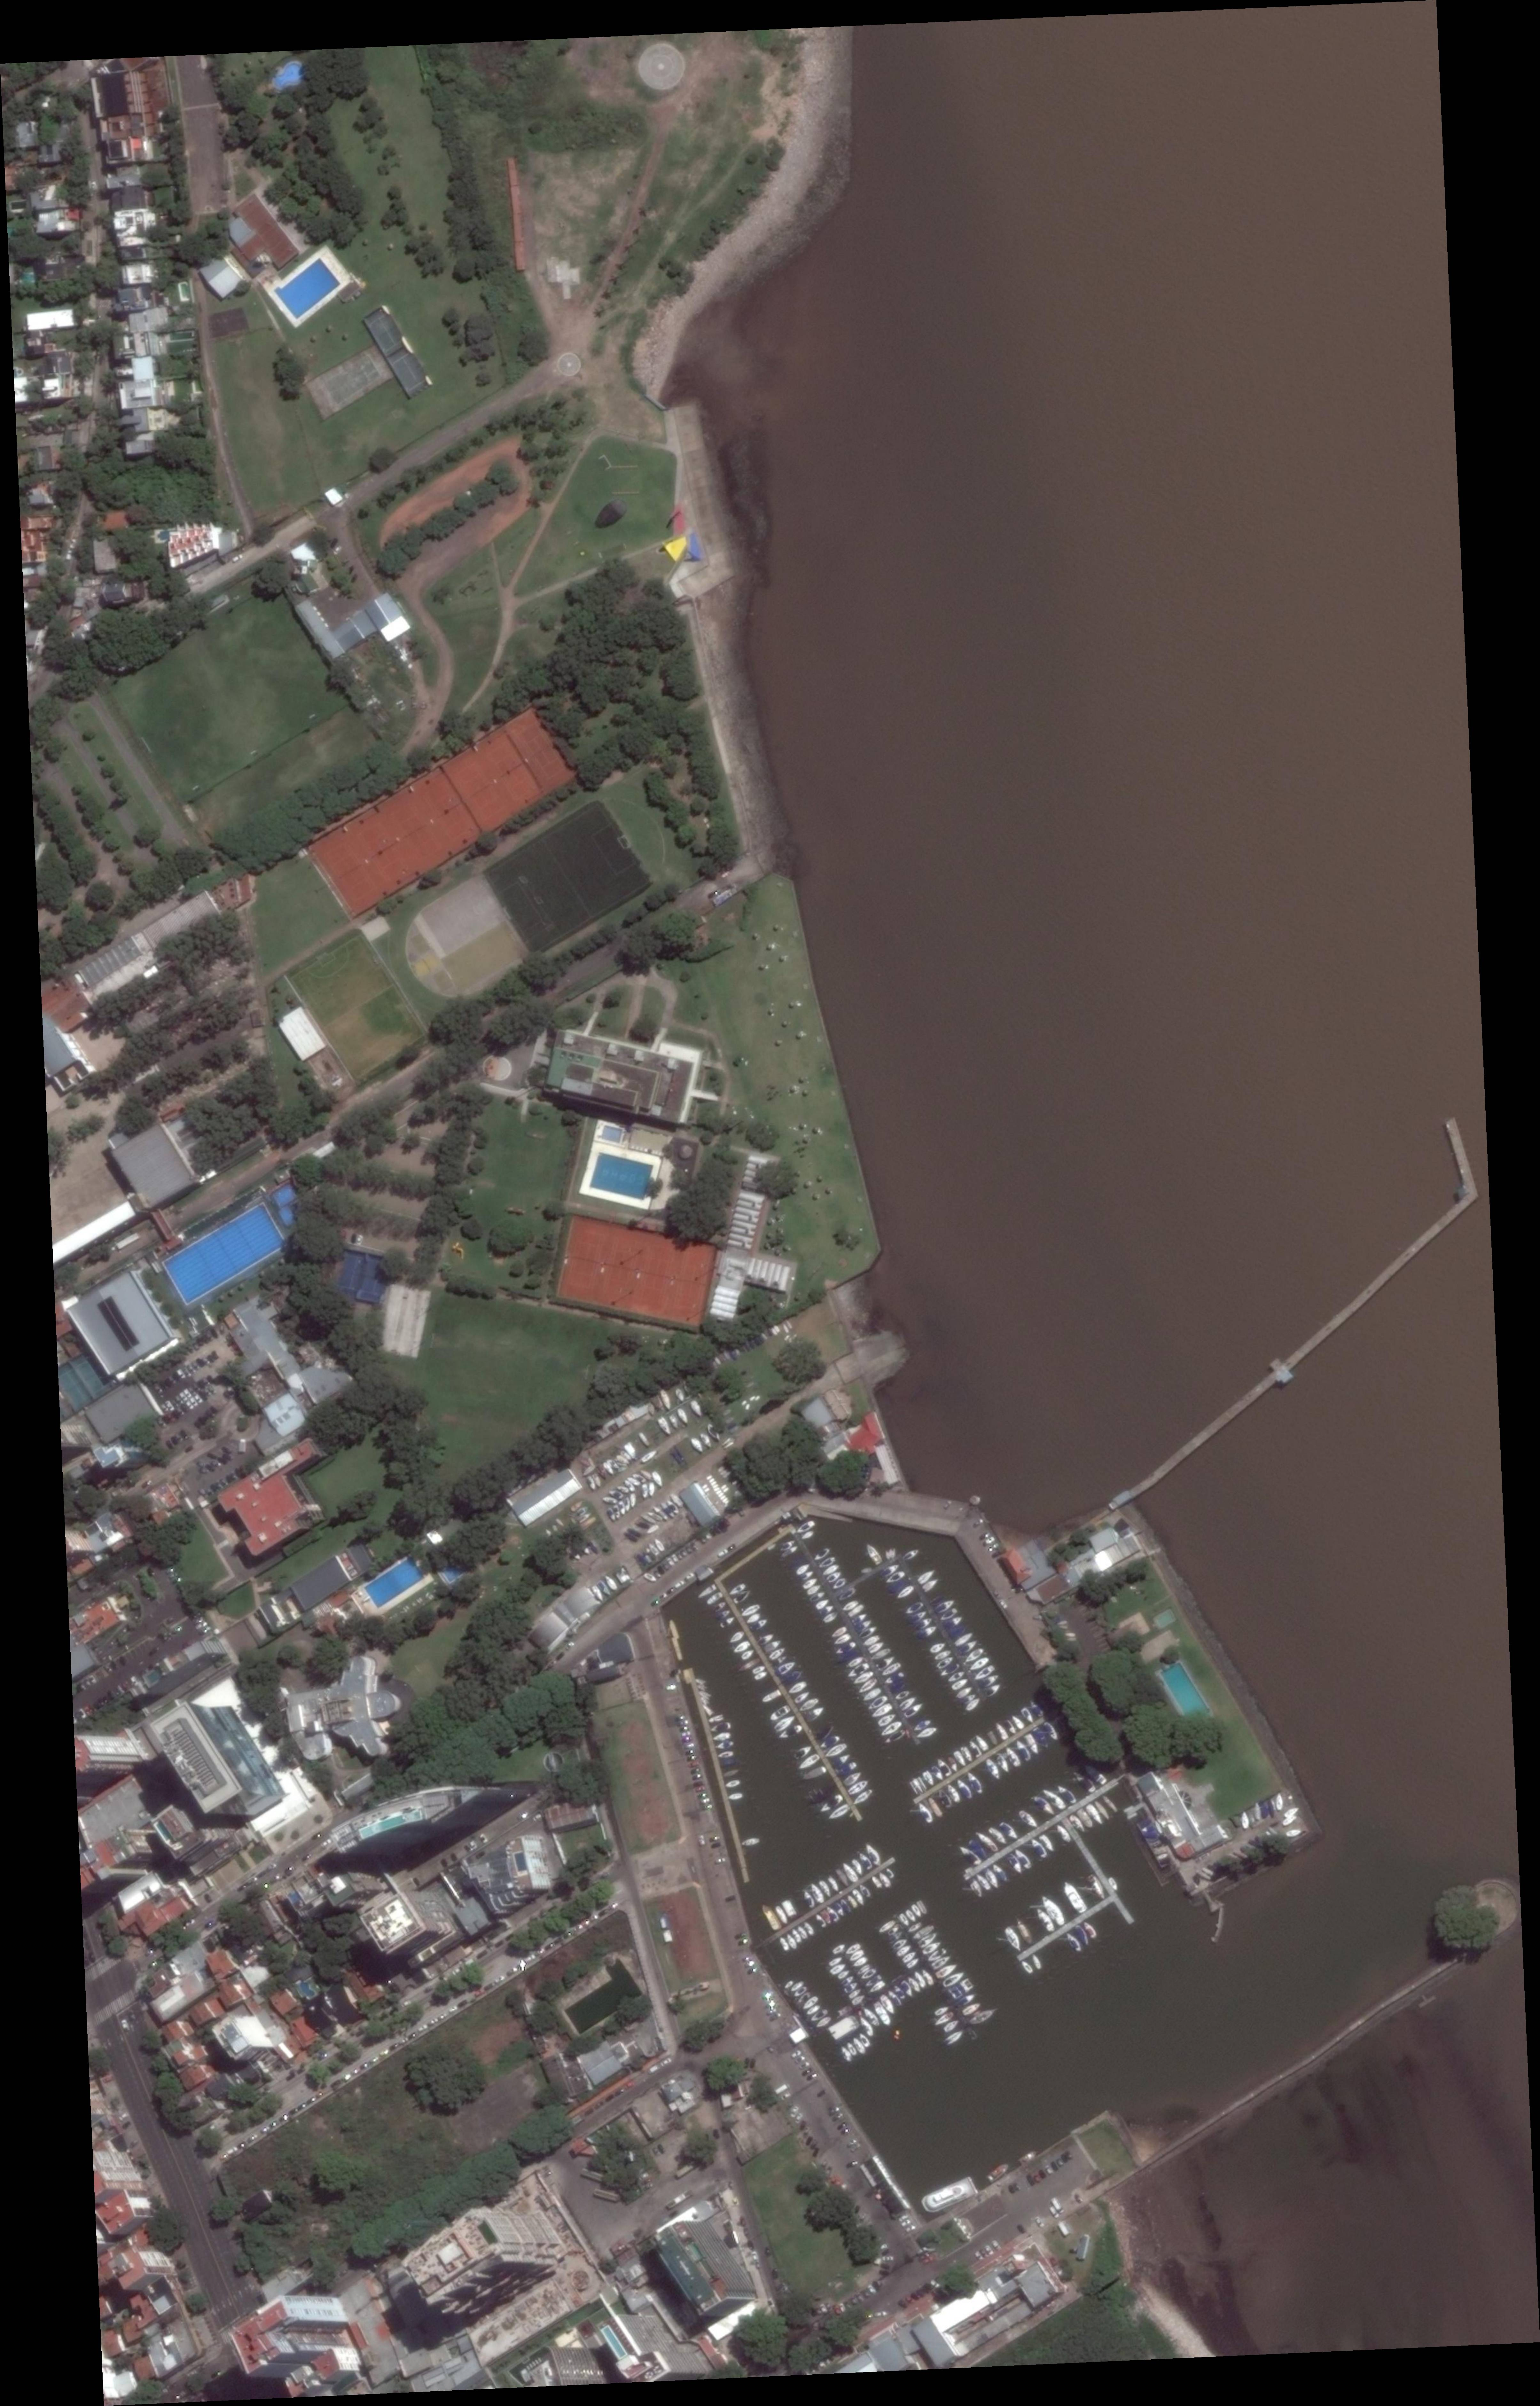harbor: (714, 1577, 863, 1820), (791, 1527, 921, 1745), (968, 1778, 1119, 1876), (895, 1554, 987, 1701), (688, 1668, 751, 1883), (752, 1857, 895, 1952), (912, 1712, 1051, 1804), (1061, 1817, 1135, 1924), (1017, 1896, 1114, 1962), (924, 1962, 977, 2039), (1445, 1119, 1479, 1205), (893, 1915, 930, 1966), (842, 1954, 872, 2003)
roundabout: (482, 1054, 512, 1082), (558, 351, 582, 377), (235, 1415, 253, 1433)
ship: (919, 2175, 979, 2217), (1037, 1892, 1068, 1929), (1059, 1878, 1089, 1915), (759, 1899, 784, 1933), (1040, 1785, 1068, 1813), (972, 1829, 1000, 1855), (1072, 1768, 1098, 1796), (1033, 1904, 1058, 1934), (1084, 1873, 1109, 1903), (958, 1841, 984, 1868), (1082, 1761, 1109, 1787), (817, 1790, 845, 1815), (1030, 1794, 1058, 1819), (861, 1840, 884, 1869), (1002, 1924, 1024, 1954), (968, 2004, 998, 2027), (772, 1710, 798, 1734), (1014, 1917, 1035, 1947), (1054, 1782, 1079, 1806), (1003, 1850, 1026, 1876), (1012, 1847, 1035, 1873), (940, 1968, 966, 1990), (910, 1920, 937, 1943), (845, 1659, 872, 1682), (879, 1717, 905, 1740), (872, 1999, 893, 2027), (777, 1722, 805, 1743), (1016, 1808, 1040, 1831), (856, 1675, 881, 1698), (796, 1752, 823, 1773), (1002, 1743, 1023, 1769), (1012, 1738, 1033, 1764), (1030, 1726, 1051, 1752), (965, 1769, 986, 1796), (980, 1866, 1002, 1892), (989, 1861, 1010, 1887), (1028, 1836, 1049, 1862), (914, 1929, 940, 1950), (803, 1703, 826, 1726), (942, 1610, 965, 1633), (963, 1645, 986, 1668), (877, 1992, 898, 2017), (781, 1666, 805, 1687), (768, 1703, 793, 1724), (982, 1757, 1003, 1782), (954, 1776, 975, 1801), (972, 1662, 996, 1683), (1080, 1918, 1102, 1943), (1037, 1831, 1058, 1855), (996, 1820, 1021, 1841), (1084, 1803, 1105, 1827), (933, 1961, 958, 1982), (902, 1699, 926, 1720), (863, 1541, 884, 1566), (905, 1606, 930, 1627), (865, 1692, 889, 1713), (884, 1726, 909, 1747), (802, 1764, 828, 1783), (840, 1859, 859, 1885), (858, 2013, 877, 2039), (737, 1655, 763, 1675), (975, 1671, 1002, 1691), (861, 2006, 882, 2029), (835, 1759, 858, 1780), (842, 1768, 865, 1789), (847, 1776, 870, 1797), (1040, 1720, 1061, 1743), (1063, 1931, 1084, 1954), (1052, 1822, 1073, 1845), (987, 1826, 1010, 1847), (919, 1938, 942, 1959), (873, 1652, 896, 1673), (896, 1692, 919, 1713), (828, 1803, 852, 1822), (824, 1741, 849, 1761), (993, 1750, 1012, 1775), (1023, 1733, 1042, 1757), (935, 1755, 954, 1780), (944, 1782, 963, 1806), (966, 1655, 991, 1675), (916, 1801, 935, 1826), (937, 1787, 956, 1812), (966, 1876, 986, 1901), (1072, 1924, 1091, 1948), (1093, 1797, 1112, 1822), (937, 1661, 961, 1680), (924, 1945, 949, 1964), (882, 1568, 907, 1587), (914, 1622, 938, 1641), (859, 1685, 884, 1705), (870, 1701, 895, 1720), (809, 1880, 826, 1906), (814, 1722, 835, 1743), (973, 1871, 995, 1892), (944, 2027, 965, 2048), (856, 1850, 875, 1873), (747, 1615, 770, 1634), (849, 2034, 868, 2057), (798, 1696, 821, 1715), (819, 1733, 842, 1752), (791, 1743, 814, 1762), (965, 1738, 984, 1761), (916, 1566, 938, 1585), (933, 1596, 956, 1615), (952, 1629, 975, 1648), (980, 1680, 1003, 1699), (1068, 1812, 1087, 1834), (1075, 1808, 1094, 1831), (933, 2010, 956, 2029), (930, 1952, 952, 1971), (881, 1659, 903, 1678), (879, 1561, 902, 1580), (856, 1622, 879, 1641), (875, 1710, 898, 1729), (781, 1897, 798, 1922), (786, 1680, 810, 1698), (833, 1640, 858, 1657), (914, 1724, 938, 1741), (851, 1669, 875, 1687), (731, 1587, 752, 1606), (766, 1645, 788, 1664), (831, 1752, 852, 1771), (852, 1789, 873, 1808), (696, 1582, 717, 1601), (731, 1638, 752, 1657), (1028, 1698, 1047, 1719), (954, 1683, 975, 1703), (958, 1636, 979, 1655), (1102, 1794, 1121, 1815), (935, 1654, 956, 1673), (852, 1615, 873, 1634), (837, 1585, 858, 1605), (833, 1866, 851, 1889), (898, 1978, 916, 2001), (905, 1973, 923, 1996), (775, 1659, 798, 1676), (656, 1413, 674, 1436), (688, 1398, 705, 1420), (705, 1420, 723, 1443), (973, 1733, 991, 1755), (993, 1720, 1010, 1743), (870, 1645, 893, 1662), (884, 1669, 907, 1687), (795, 1519, 817, 1536), (658, 1387, 674, 1412), (728, 1627, 747, 1647), (579, 1513, 598, 1533), (658, 1499, 677, 1519), (830, 1622, 849, 1641), (824, 1903, 842, 1924), (728, 1580, 749, 1598), (886, 1989, 903, 2010), (809, 2006, 830, 2024), (828, 1961, 849, 1978), (761, 1638, 782, 1655), (761, 1687, 782, 1705), (945, 1668, 966, 1685), (949, 1675, 970, 1692), (863, 1973, 884, 1990), (866, 1978, 888, 1996), (831, 1631, 852, 1648), (865, 1638, 886, 1655), (912, 1717, 933, 1734), (903, 1599, 924, 1617), (912, 1615, 933, 1633), (774, 1903, 789, 1926), (802, 1887, 817, 1910), (921, 1966, 937, 1989), (814, 2013, 833, 2031), (802, 1994, 819, 2013), (602, 1573, 619, 1592), (1009, 1713, 1026, 1733), (1019, 1706, 1037, 1726), (963, 1696, 982, 1713), (921, 1577, 940, 1594), (938, 1606, 958, 1624), (942, 2017, 961, 2034), (781, 1543, 800, 1561), (793, 1561, 812, 1578), (896, 1584, 916, 1601), (812, 1545, 831, 1562), (817, 1554, 837, 1571), (821, 1561, 840, 1578), (840, 1598, 859, 1615), (877, 1869, 893, 1890), (851, 1887, 866, 1908), (740, 1603, 761, 1619), (849, 1857, 865, 1878), (817, 1878, 833, 1899), (824, 1873, 840, 1894), (838, 2043, 854, 2064), (912, 1969, 928, 1990), (959, 1743, 975, 1764), (961, 2001, 982, 2017), (844, 1655, 865, 1671), (861, 1633, 882, 1648), (651, 1468, 665, 1491), (793, 1689, 810, 1706), (891, 1934, 909, 1952), (886, 1929, 903, 1947), (900, 1948, 917, 1966), (824, 1568, 842, 1585), (847, 1601, 865, 1619), (756, 1631, 775, 1647), (891, 1983, 907, 2003), (856, 2031, 872, 2050), (689, 1434, 705, 1454), (675, 1406, 691, 1426), (640, 1449, 659, 1464), (705, 1591, 724, 1606), (651, 1506, 670, 1522), (921, 1768, 937, 1787), (930, 1764, 945, 1783), (952, 1748, 968, 1768), (1002, 1717, 1017, 1736), (959, 1691, 979, 1706), (847, 1948, 866, 1964), (1282, 1804, 1301, 1820), (958, 1992, 977, 2008), (809, 1589, 828, 1605), (928, 1640, 947, 1655), (877, 1918, 896, 1934), (902, 1547, 921, 1562), (710, 1720, 731, 1734), (714, 1738, 735, 1752), (802, 1920, 817, 1938), (849, 1992, 866, 2008), (838, 1973, 856, 1989), (710, 1599, 728, 1615), (596, 1580, 612, 1598), (738, 1647, 756, 1662), (575, 1510, 593, 1526), (637, 1431, 652, 1449), (845, 1941, 863, 1957), (779, 1538, 796, 1554), (802, 1575, 819, 1591), (805, 1582, 823, 1598), (814, 1596, 831, 1612), (859, 1966, 877, 1982), (895, 1943, 912, 1959), (905, 1920, 923, 1936), (851, 1612, 868, 1627), (831, 1577, 849, 1592), (838, 1897, 852, 1917), (784, 1931, 798, 1950), (744, 1612, 763, 1626), (845, 2039, 859, 2059), (700, 1429, 714, 1449), (591, 1584, 605, 1603), (945, 1755, 959, 1775), (1030, 1952, 1044, 1971), (933, 1648, 952, 1662), (851, 1955, 870, 1969), (910, 1901, 924, 1920), (916, 1897, 930, 1917), (740, 1836, 761, 1848), (1266, 1796, 1277, 1820), (831, 1941, 847, 1957), (844, 1980, 859, 1996), (789, 1978, 805, 1994), (793, 1983, 809, 1999), (581, 1463, 596, 1478), (668, 1492, 684, 1508), (665, 1499, 681, 1515), (847, 1985, 863, 2001), (819, 1603, 835, 1619), (823, 1610, 838, 1626), (819, 1908, 833, 1926), (858, 1882, 872, 1899), (845, 1892, 859, 1910), (789, 1927, 803, 1945), (805, 2003, 823, 2017), (674, 1387, 688, 1405), (652, 1536, 667, 1554), (714, 1608, 731, 1622), (605, 1457, 623, 1471), (719, 1615, 737, 1629), (1021, 1959, 1035, 1976), (903, 1906, 917, 1924), (779, 1934, 791, 1954), (712, 1731, 731, 1743), (870, 1875, 884, 1890), (814, 1913, 828, 1929), (828, 1955, 844, 1969), (835, 1968, 851, 1982), (638, 1468, 654, 1482), (602, 1461, 616, 1477), (647, 1541, 661, 1557), (616, 1452, 631, 1466), (617, 1449, 633, 1463), (1282, 1813, 1298, 1827), (1240, 1810, 1251, 1831), (800, 1568, 816, 1582), (856, 1962, 872, 1976), (905, 1955, 921, 1969), (800, 1529, 816, 1543), (833, 1901, 845, 1918), (796, 1924, 809, 1941), (723, 1768, 740, 1780), (726, 1790, 744, 1803), (752, 1669, 770, 1682), (640, 1513, 658, 1526), (1107, 1875, 1119, 1892), (933, 2004, 951, 2017), (895, 1689, 912, 1701), (716, 1750, 735, 1761), (575, 1505, 589, 1519), (570, 1499, 584, 1513), (623, 1478, 637, 1492), (668, 1413, 681, 1429), (591, 1473, 603, 1489), (751, 1664, 766, 1676), (631, 1471, 647, 1484), (898, 1911, 910, 1927), (709, 1713, 726, 1724), (586, 1475, 596, 1492), (607, 1489, 624, 1499), (647, 1512, 665, 1522), (1259, 1799, 1268, 1820), (644, 1571, 658, 1584), (645, 1524, 659, 1536), (886, 1926, 900, 1938), (1275, 1792, 1284, 1812), (724, 1778, 740, 1789), (626, 1477, 642, 1487), (607, 1506, 617, 1522), (1254, 1799, 1261, 1822), (1286, 1829, 1303, 1838), (884, 1866, 895, 1880), (602, 1496, 617, 1505), (784, 1978, 795, 1990), (616, 1485, 630, 1494), (649, 1482, 656, 1498), (630, 1492, 637, 1508), (619, 1499, 626, 1515), (614, 1505, 621, 1519), (642, 1484, 647, 1499), (624, 1498, 630, 1512)
soccer ball field: (488, 807, 649, 954), (291, 935, 424, 1080)
storage tank: (679, 1143, 693, 1159)
swimming pool: (161, 1199, 291, 1310), (268, 251, 347, 324), (581, 1142, 665, 1210), (360, 1550, 431, 1617), (1156, 1659, 1217, 1731), (268, 56, 310, 96), (437, 1554, 470, 1589), (600, 2322, 630, 2360), (270, 1178, 305, 1210), (275, 1198, 307, 1231), (593, 1121, 628, 1150), (296, 1978, 319, 2001), (179, 281, 191, 303)
tennis court: (358, 822, 410, 884), (486, 740, 538, 801), (423, 780, 474, 842), (389, 803, 442, 861), (454, 761, 507, 819), (324, 842, 375, 901), (517, 721, 567, 780), (672, 1250, 710, 1312), (568, 1229, 607, 1289), (638, 1245, 675, 1305), (603, 1238, 640, 1296)
